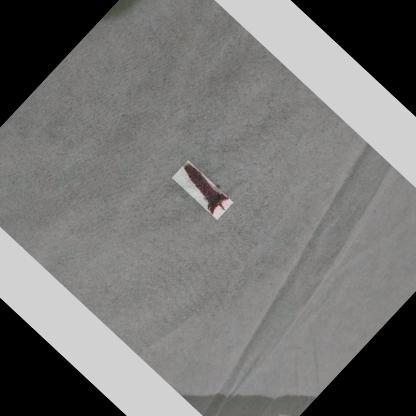buruk: (182, 163, 228, 216)
